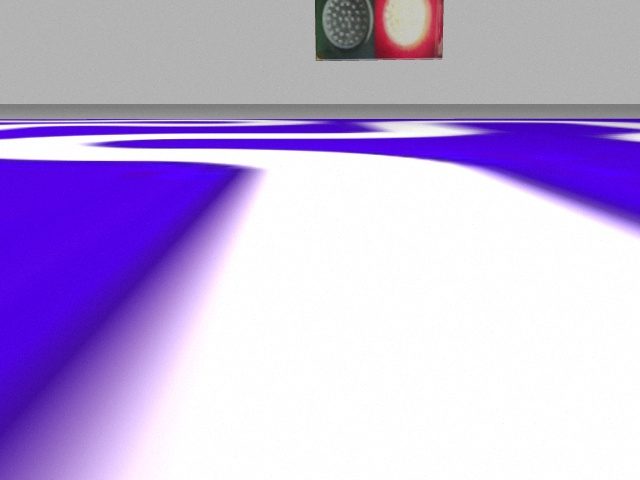red: (375, 1, 442, 57)
